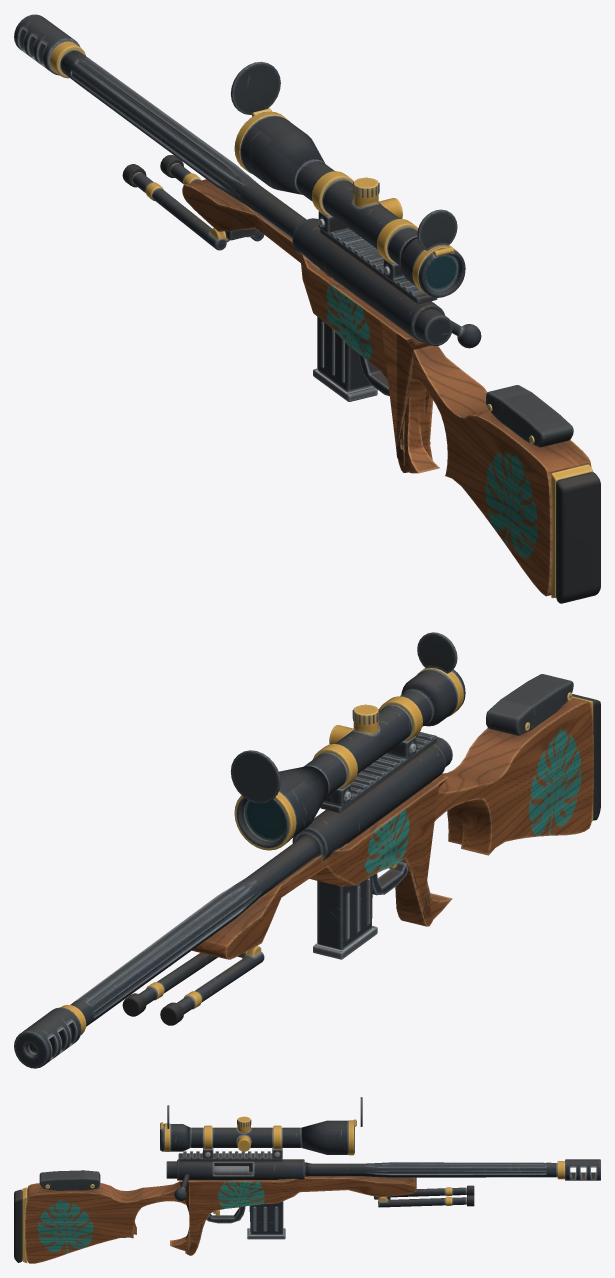
The model's file is sniper.glb.
3 views of the same model, one above another, from view 1: azimuth 30°, elevation 25°; view 2: azimuth 150°, elevation 25°; view 3: azimuth 270°, elevation 25° (orthographic). The views are drawn at different scales.
Visible parts, largest first — view 1: sniper_body, sniper_mag_mesh, sniper_bolt_mesh; view 2: sniper_body, sniper_mag_mesh; view 3: sniper_body, sniper_mag_mesh, sniper_bolt_mesh.
Boxes of the visible parts, bbox=[...] form: sniper_body: bbox=[14, 14, 600, 603]; sniper_mag_mesh: bbox=[313, 317, 377, 401]; sniper_bolt_mesh: bbox=[415, 309, 481, 348]; sniper_body: bbox=[14, 632, 600, 1068]; sniper_mag_mesh: bbox=[313, 876, 377, 959]; sniper_body: bbox=[14, 1097, 600, 1263]; sniper_mag_mesh: bbox=[247, 1201, 285, 1239]; sniper_bolt_mesh: bbox=[166, 1161, 249, 1201].
Size of the model in its own units: 0.11 by 0.3822 by 1.27.
1 material, 1 textured.
